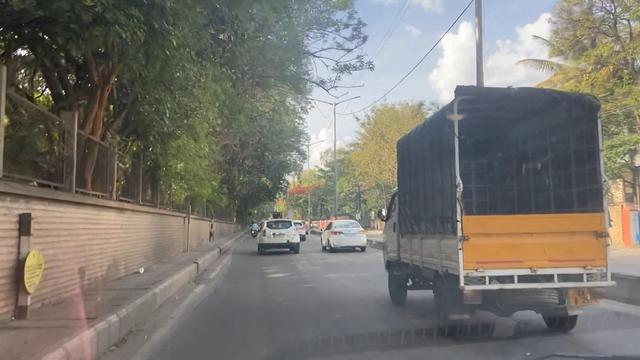HMV: (387, 84, 606, 331)
LMV: (258, 217, 301, 254)
